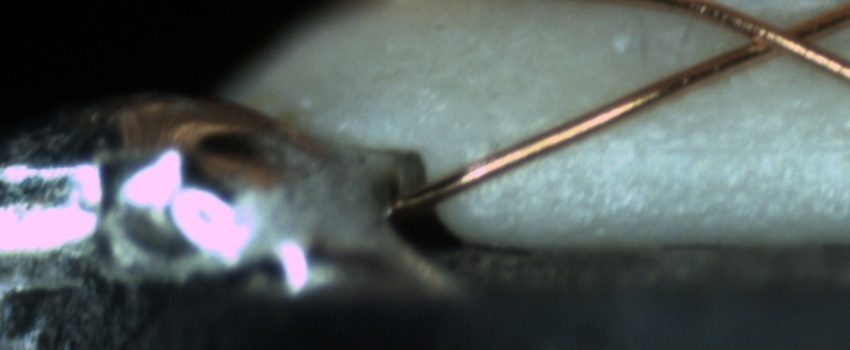CL: (728, 5, 835, 66)
DL: (579, 113, 849, 180)
